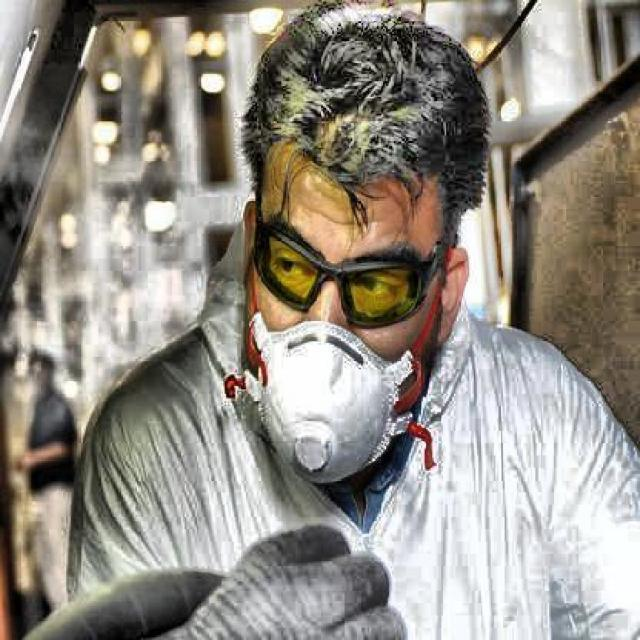Goggles: (245, 186, 448, 383)
